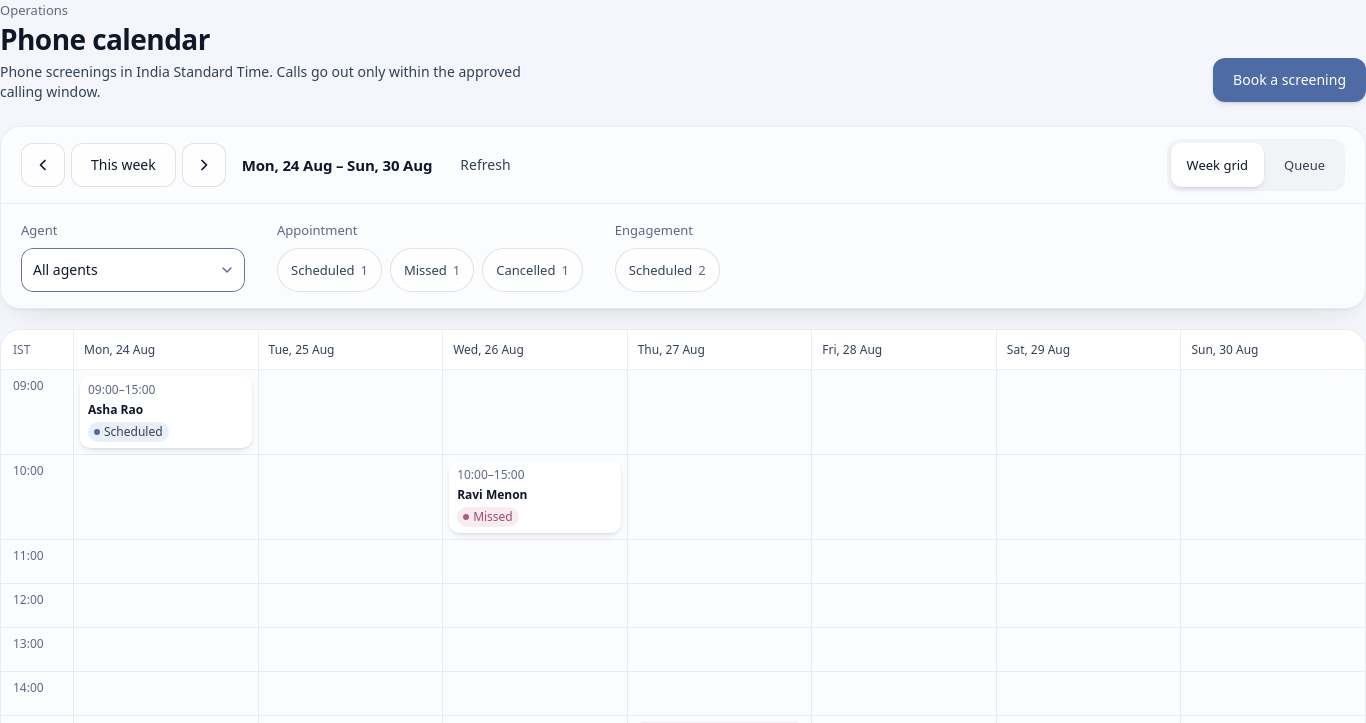
it: touch targets › gives every interactive control at least a 44px minimum height
Click the button with aria-label "ATS-4417" at (166, 412), box [80,376,252,448]
(page scrolled)
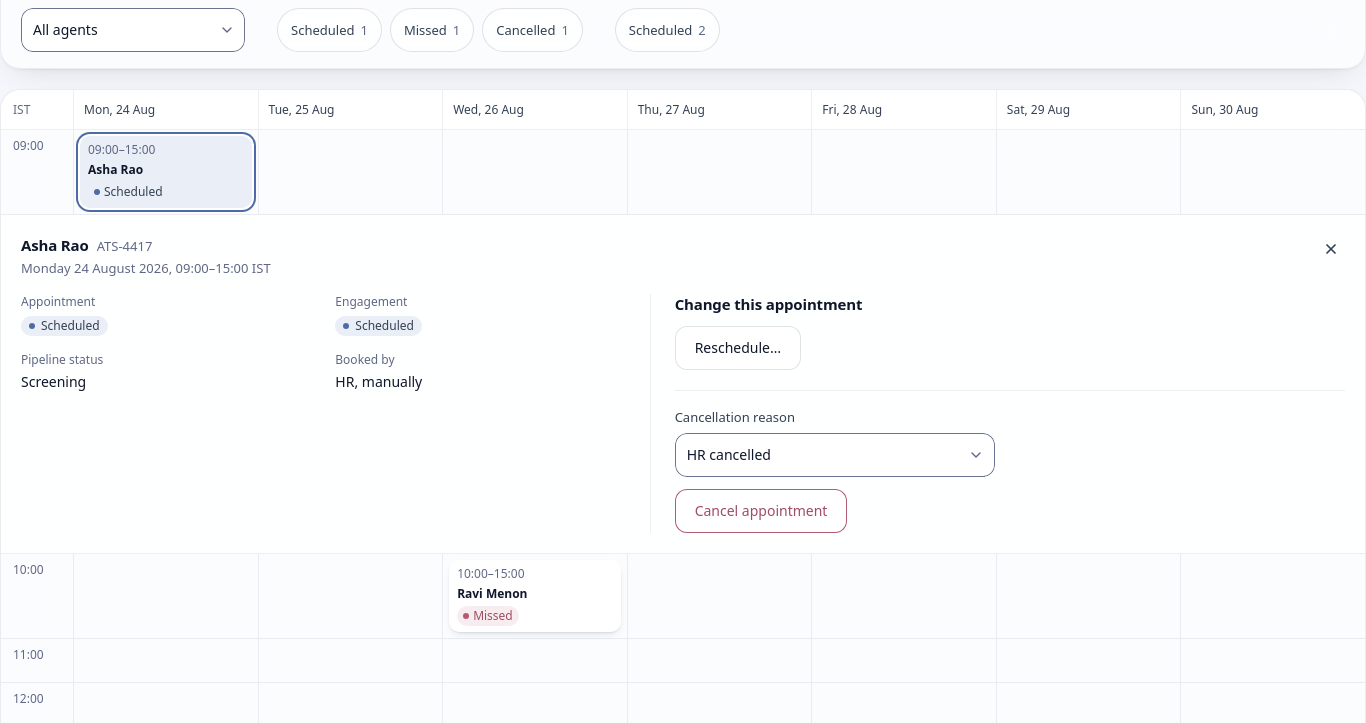
expect the element named "Selected appointment" is shown: met, box [1,215,1365,553]
